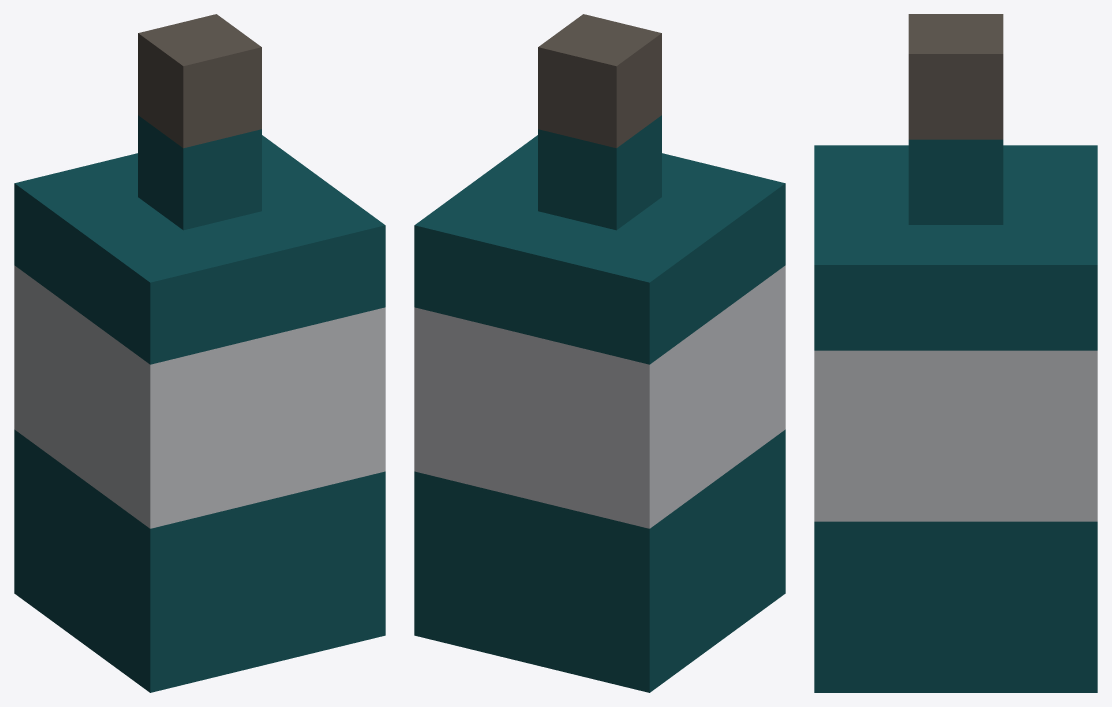
Rendered from bottle_b.obj.
3 views of the same model, side by side, from view 1: azimuth 30°, elevation 25°; view 2: azimuth 150°, elevation 25°; view 3: azimuth 270°, elevation 25° (orthographic). The views are drawn at different scales.
Bounding box in the file's own units: 0.3 × 0.7 × 0.3.
1 material, 1 textured.
